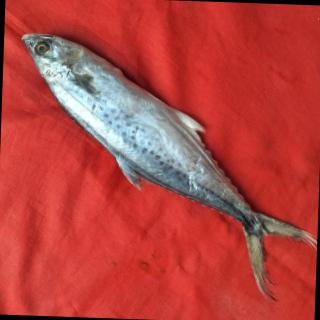Ikan: (9, 31, 314, 303)
